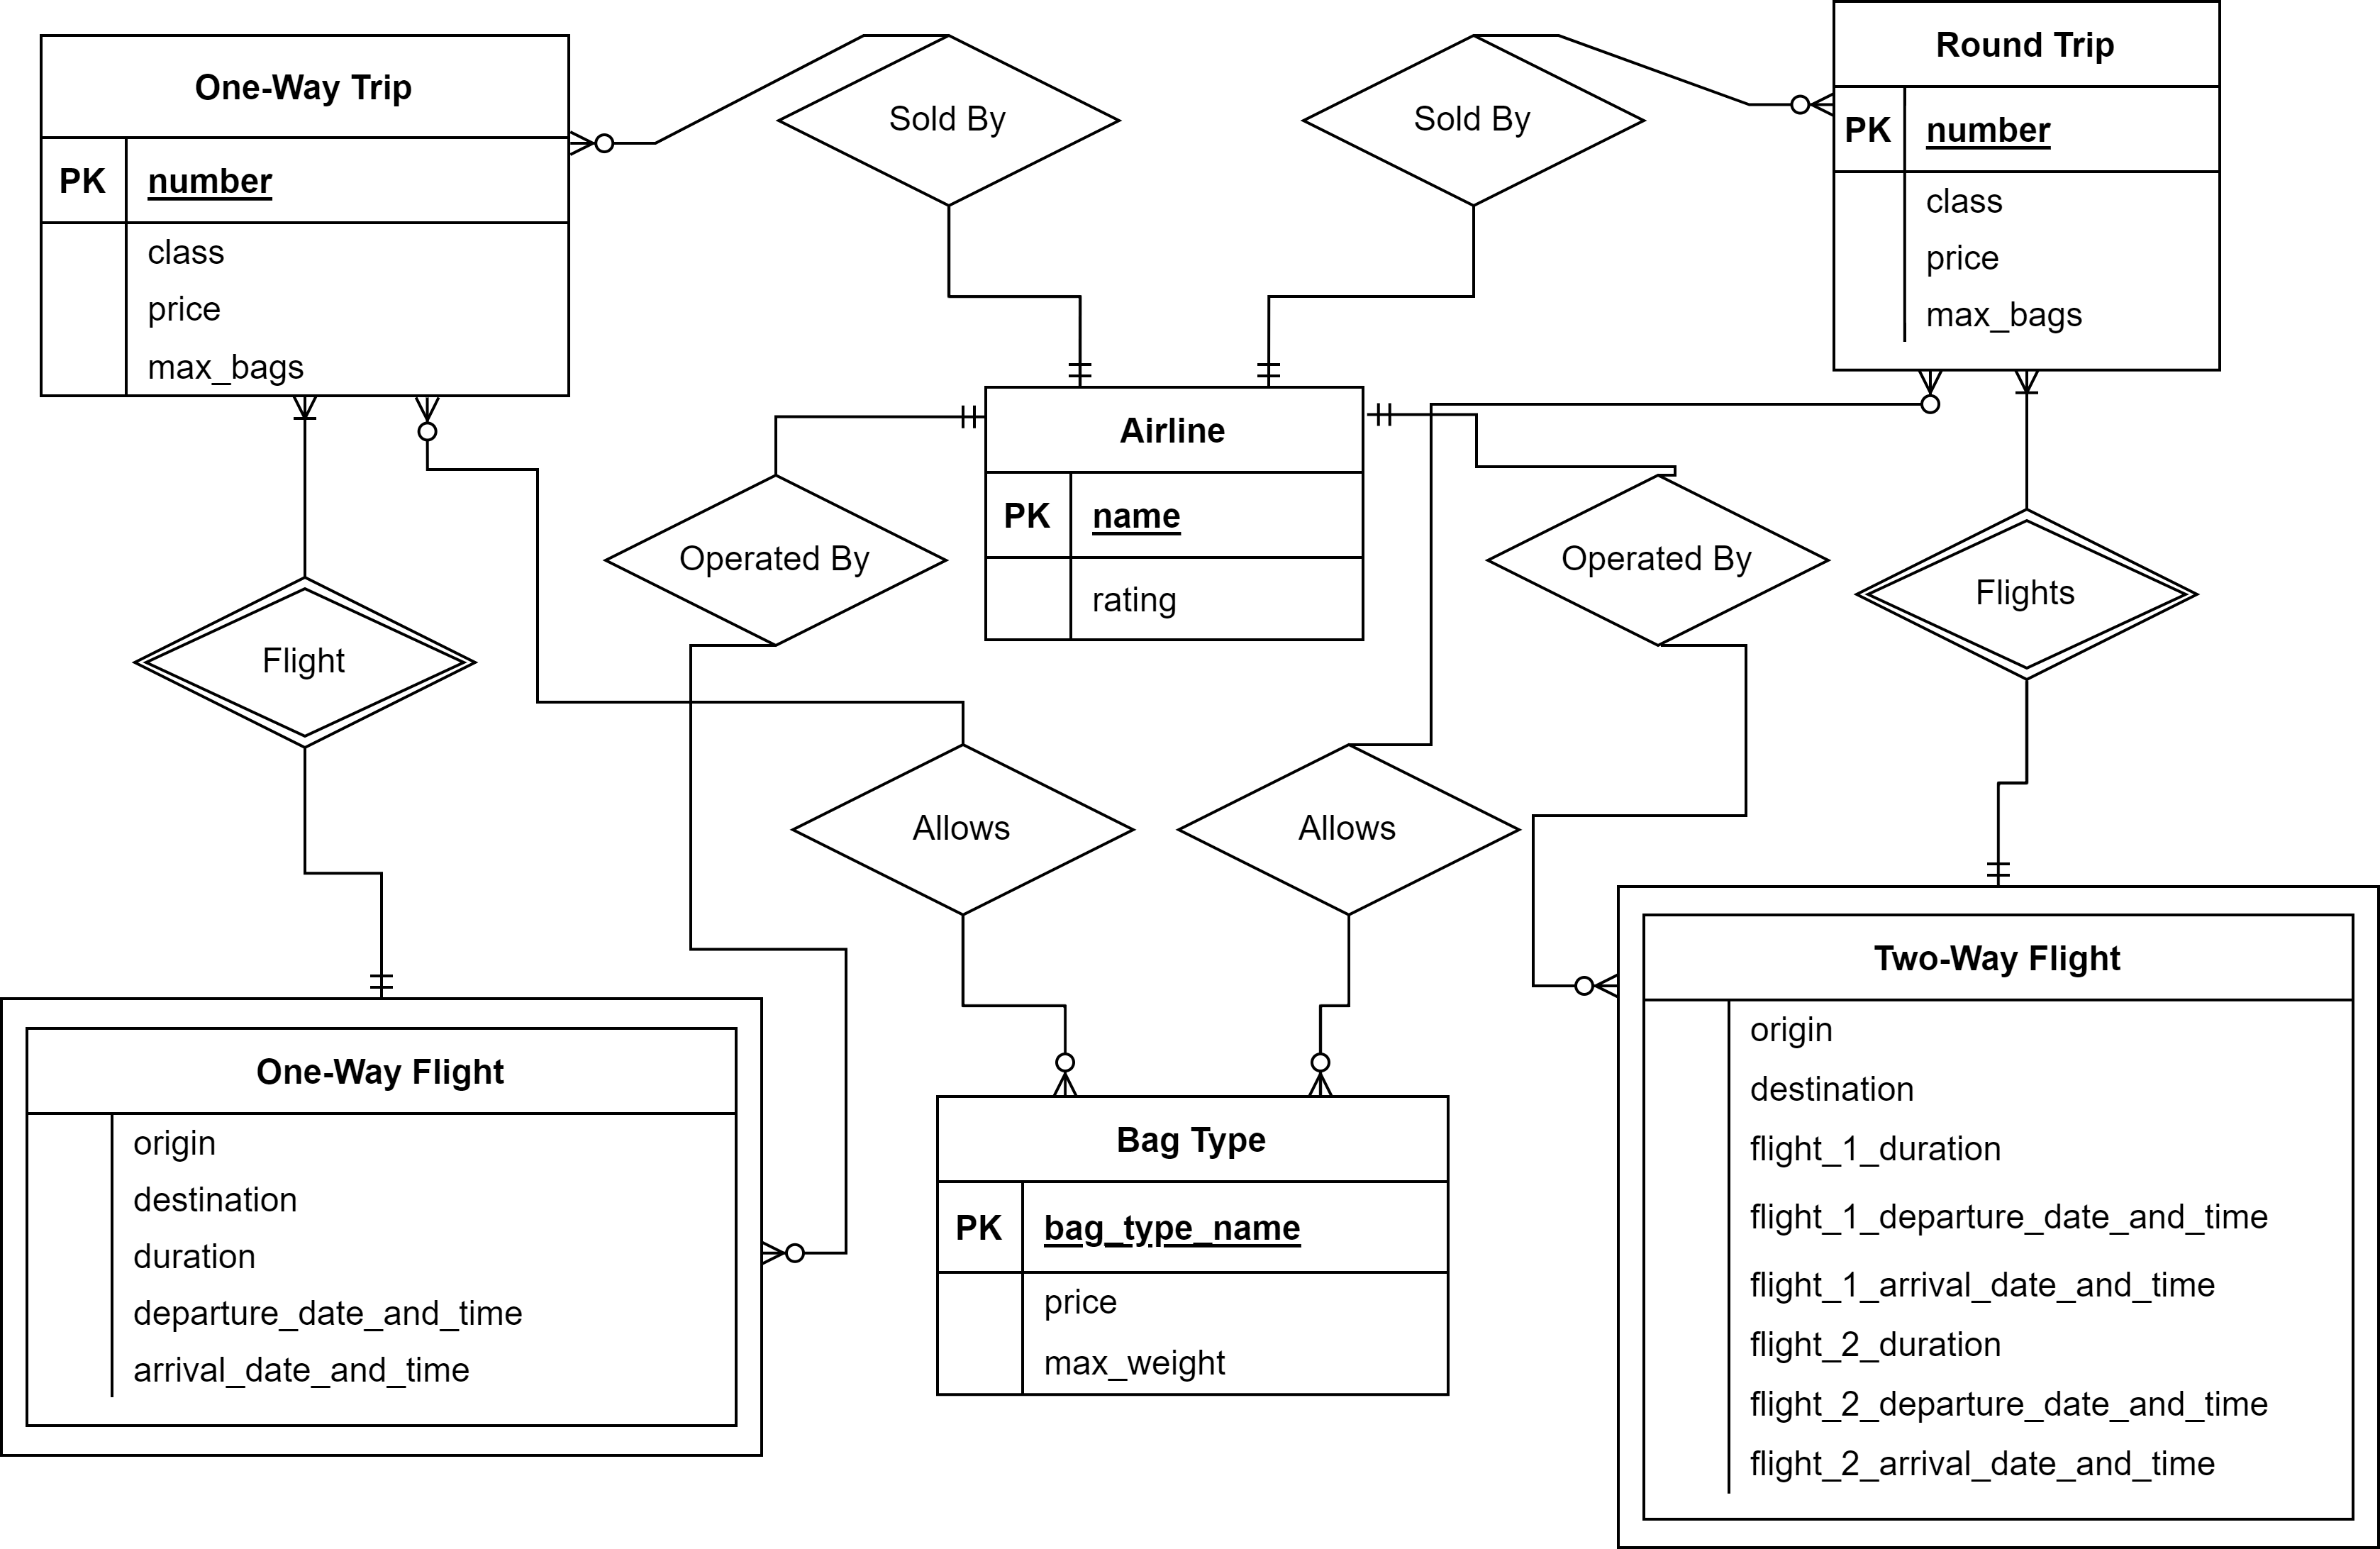entity: (38, 33, 572, 397), (1837, 0, 2224, 371)
ident_rel: (1856, 510, 2201, 680), (132, 578, 479, 744)
many: (1046, 1006, 1082, 1103), (2007, 368, 2042, 468), (1747, 88, 1837, 123), (288, 394, 321, 486), (1306, 1008, 1339, 1100), (569, 128, 659, 161), (1530, 973, 1618, 1006), (760, 1237, 847, 1268), (413, 395, 446, 472), (1917, 373, 1948, 425)
one: (366, 871, 399, 1004), (1984, 788, 2017, 886), (1252, 297, 1287, 389), (1362, 402, 1476, 428), (918, 397, 987, 428), (1067, 304, 1091, 389)
rel: (1483, 475, 1834, 647), (1180, 742, 1525, 914), (607, 475, 945, 644), (1306, 36, 1646, 203), (777, 38, 1124, 199), (796, 748, 1134, 912)
weak_entity: (1618, 883, 2380, 1549), (5, 999, 767, 1459)
